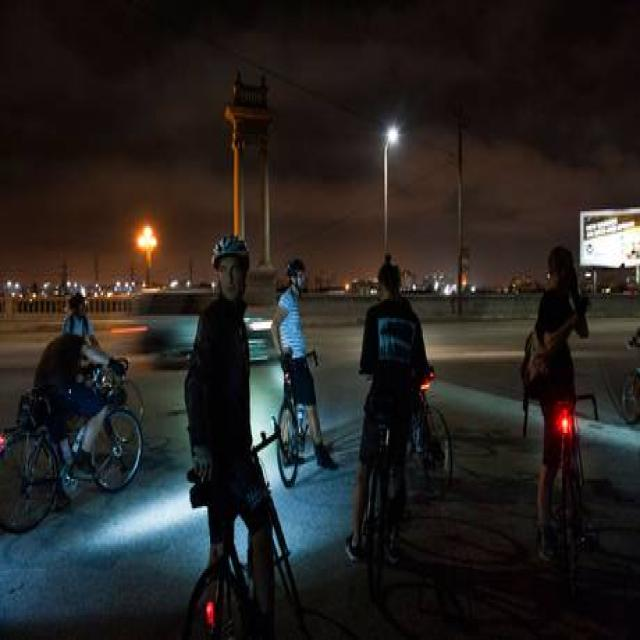Bicycle: (350, 367, 468, 591), (0, 397, 153, 550), (536, 400, 612, 581), (171, 533, 294, 640), (254, 383, 315, 489)
People: (192, 215, 261, 463), (41, 246, 115, 407), (523, 247, 582, 423), (367, 249, 422, 407), (272, 220, 305, 397)
